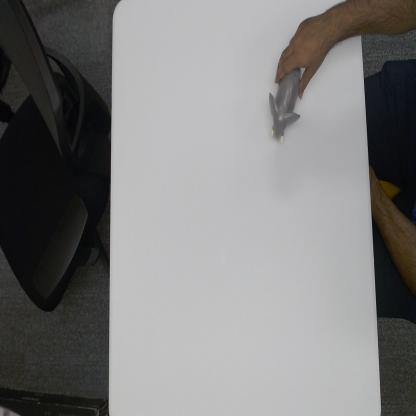Arm: (321, 1, 362, 64)
Elephant: (268, 67, 302, 146)
Hand: (277, 11, 320, 91)
